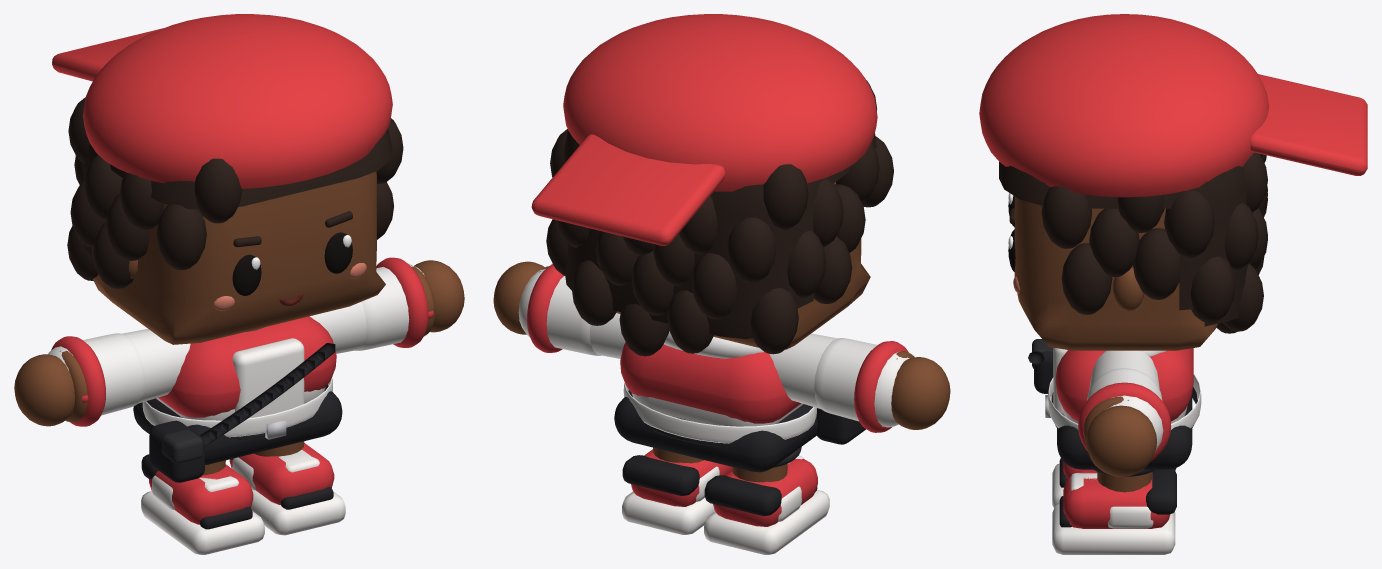
The model's file is ace_chibi_v02.glb.
3 views of the same model, side by side, from view 1: azimuth 30°, elevation 25°; view 2: azimuth 150°, elevation 25°; view 3: azimuth 270°, elevation 25° (orthographic).
Visible parts, largest first — view 1: Cap_Crown, Head, Hair_Curls, Jacket, Shoe_R, Arm_R, Shoe_L, Arm_L, Hand_R, Hair_Cap, CropTop, Shorts (+6 smaller); view 2: Cap_Crown, Hair_Curls, Cap_Brim, Jacket, Arm_R, Hair_Cap, Shoe_R, Shoe_L, Arm_L, Shorts, Hand_R, Head (+5 smaller); view 3: Cap_Crown, Hair_Curls, Head, Shoe_L, Cap_Brim, Hair_Cap, Jacket, Arm_L, Hand_L, Shorts, Bag, Leg_L (+1 smaller).
Boxes of the visible parts, x1,y1,x2,y2 form: Cap_Crown: (83, 14, 392, 188); Head: (93, 171, 385, 344); Hair_Curls: (67, 97, 403, 288); Jacket: (142, 316, 336, 437); Shoe_R: (141, 454, 264, 554); Arm_R: (47, 329, 190, 426); Shoe_L: (229, 443, 345, 535); Arm_L: (310, 257, 428, 353); Hand_R: (14, 350, 88, 426); Hair_Cap: (83, 129, 392, 256); CropTop: (232, 338, 304, 418); Shorts: (133, 387, 342, 464); Cap_Crown: (563, 14, 877, 191); Hair_Curls: (546, 80, 893, 356); Cap_Brim: (531, 134, 725, 245); Jacket: (620, 342, 816, 443); Arm_R: (769, 333, 909, 432); Hair_Cap: (564, 130, 876, 339); Shoe_R: (704, 455, 829, 554); Shoe_L: (622, 449, 732, 534); Arm_L: (518, 264, 625, 358); Shorts: (614, 392, 817, 472); Hand_R: (891, 351, 950, 429); Head: (616, 182, 870, 349); Cap_Crown: (979, 14, 1268, 197); Hair_Curls: (1041, 152, 1267, 333); Head: (1014, 196, 1217, 350); Shoe_L: (1052, 469, 1176, 554); Cap_Brim: (1250, 74, 1367, 175); Hair_Cap: (999, 162, 1250, 326); Jacket: (1048, 348, 1201, 429); Arm_L: (1078, 350, 1171, 460); Hand_L: (1082, 396, 1156, 476); Shorts: (1057, 396, 1192, 476); Bag: (1032, 339, 1053, 393); Leg_L: (1097, 472, 1152, 492).
Size of the model in its own units: 0.644 by 0.6706 by 0.4899.
